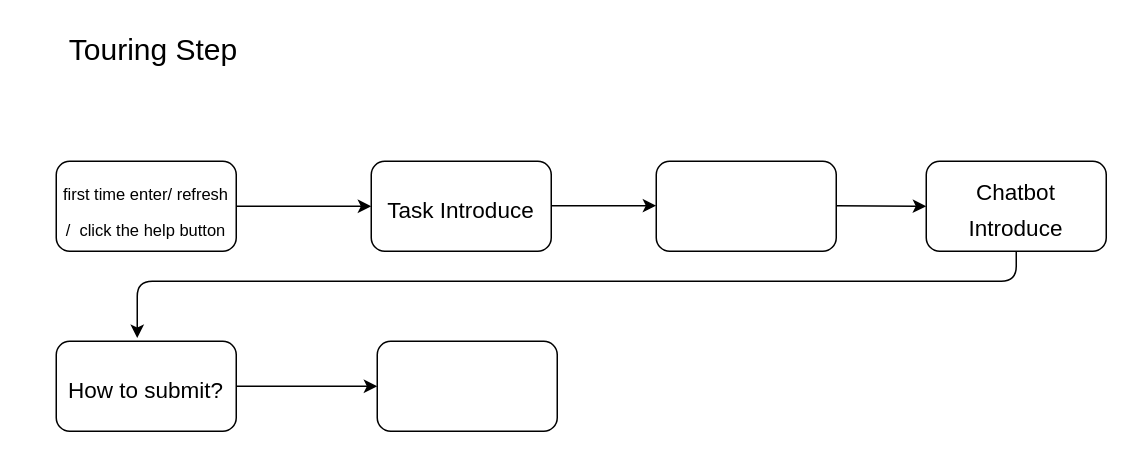
Image size: 1133x458. Some labels were removed from this diagram. The shapes that lost their labels are listed below. From the top down, each one's box as (x1, y1, x2, y2) in pixels, then its label:
(655, 160, 836, 251): Your Answer
(376, 340, 557, 431): How to see again?
